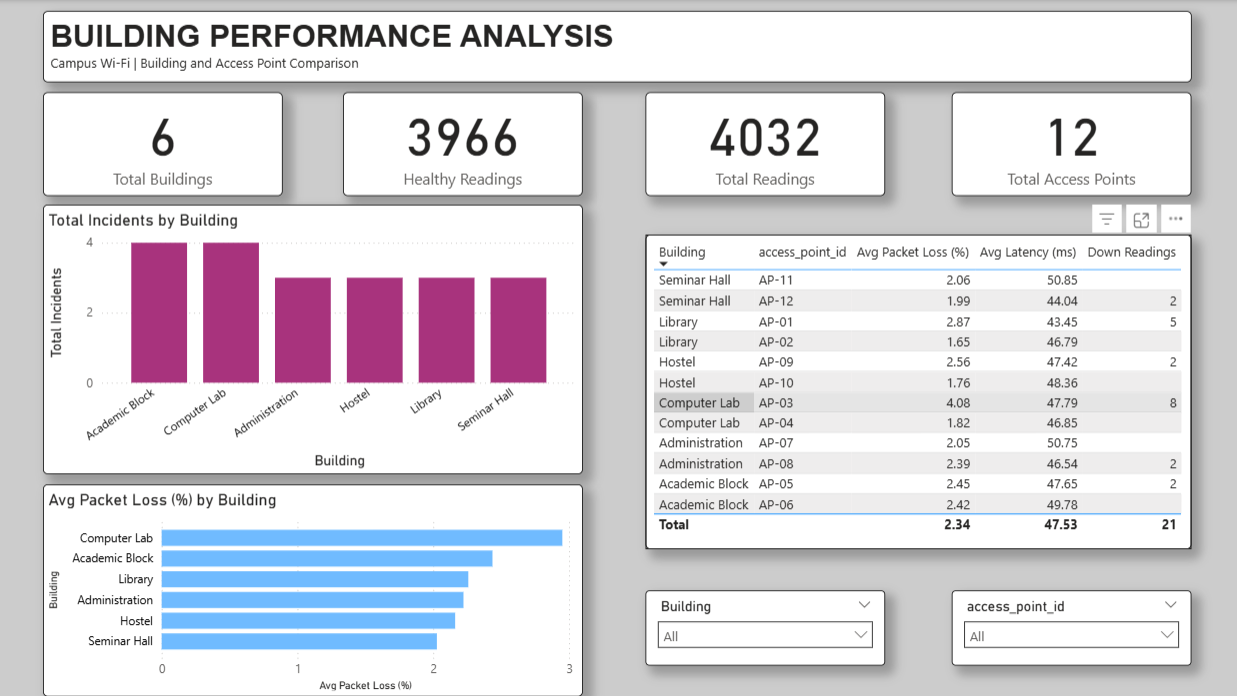

Layout of this report page (visuals, bound fields, positions):
{"tool":"powerbi","page":{"name":"Building Performance Analysis","canvas":[1280,720],"ordinal":1},"visuals":[{"type":"textbox","box":[46.4,11.6,1184.9,73.5],"z":0},{"type":"card","fields":{"Values":["access_points.Total Buildings"]},"box":[46.4,95.4,247.5,107],"z":1000},{"type":"card","fields":{"Values":["network_readings.Healthy Readings"]},"box":[355.8,95.4,247.5,107],"z":2000},{"type":"card","fields":{"Values":["network_readings.Total Readings"]},"box":[667.9,95.4,247.5,107],"z":3000},{"type":"card","fields":{"Values":["access_points.Total Access Points"]},"box":[983.7,95.4,247.5,107],"z":4000},{"type":"clusteredColumnChart","fields":{"Category":["access_points.Building"],"Y":["incidents.Total Incidents"]},"box":[46.4,211.4,557,278.5],"z":5000},{"type":"clusteredBarChart","fields":{"Y":["network_readings.Avg Packet Loss (%)"],"Category":["access_points.Building"]},"box":[46.4,500.2,557,219.2],"z":6000},{"type":"tableEx","fields":{"Values":["access_points.Building","access_points.access_point_id","network_readings.Avg Packet Loss (%)","network_readings.Avg Latency (ms)","network_readings.Down Readings"]},"box":[667.9,242.4,563.4,324.9],"z":7000},{"type":"slicer","fields":{"Values":["access_points.Building"]},"box":[667.9,609.8,247.5,77.4],"z":8000},{"type":"slicer","fields":{"Values":["access_points.access_point_id"]},"box":[983.7,609.8,247.5,77.4],"z":9000}]}

Visuals, with their boxes in screenshot pixels (x1, y1, x2, y2), scaled from the page's 1280x720 canvas onto the 1237x696 screenshot:
textbox: 45/11/1190/82
card - access_points.Total Buildings: 45/92/284/196
card - network_readings.Healthy Readings: 344/92/583/196
card - network_readings.Total Readings: 645/92/885/196
card - access_points.Total Access Points: 951/92/1190/196
clusteredColumnChart - access_points.Building x incidents.Total Incidents: 45/204/583/474
clusteredBarChart - network_readings.Avg Packet Loss (%) x access_points.Building: 45/484/583/695
tableEx - access_points.Building x access_points.access_point_id: 645/234/1190/548
slicer - access_points.Building: 645/589/885/664
slicer - access_points.access_point_id: 951/589/1190/664
